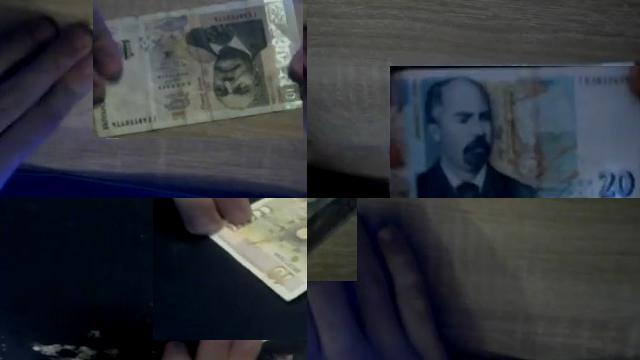10leva: (93, 0, 303, 138), (129, 22, 200, 111)
20leva: (390, 66, 640, 198)
